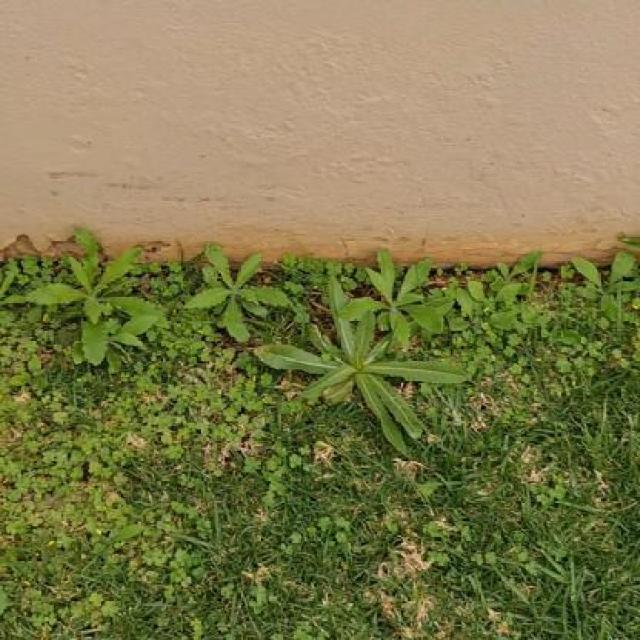weed: (255, 251, 466, 453), (28, 229, 163, 367), (186, 246, 309, 344)
